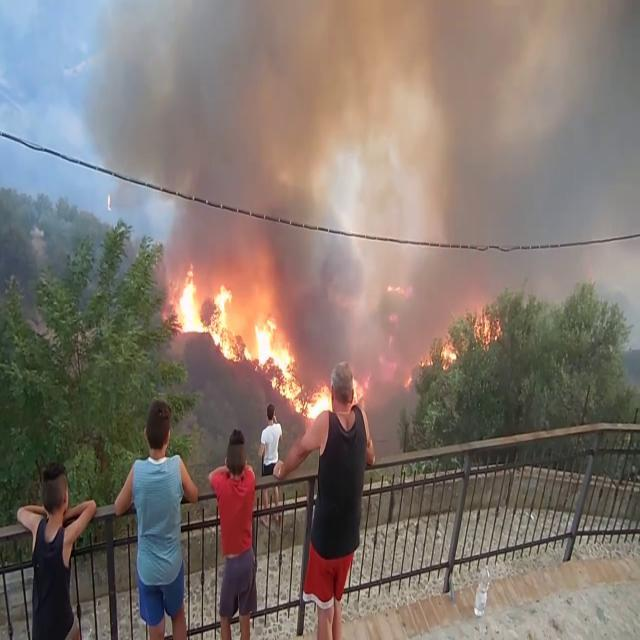Fire: (170, 266, 292, 391), (438, 291, 502, 368), (280, 361, 338, 428)
Smoke: (92, 0, 630, 333)
